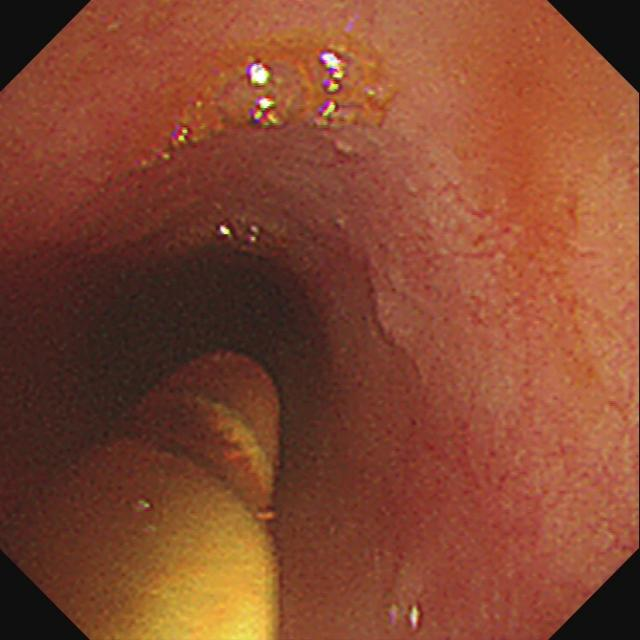K: (2, 346, 287, 640)
U: (319, 51, 348, 99), (250, 95, 277, 130), (248, 60, 275, 90), (321, 101, 338, 121), (217, 221, 234, 241)
